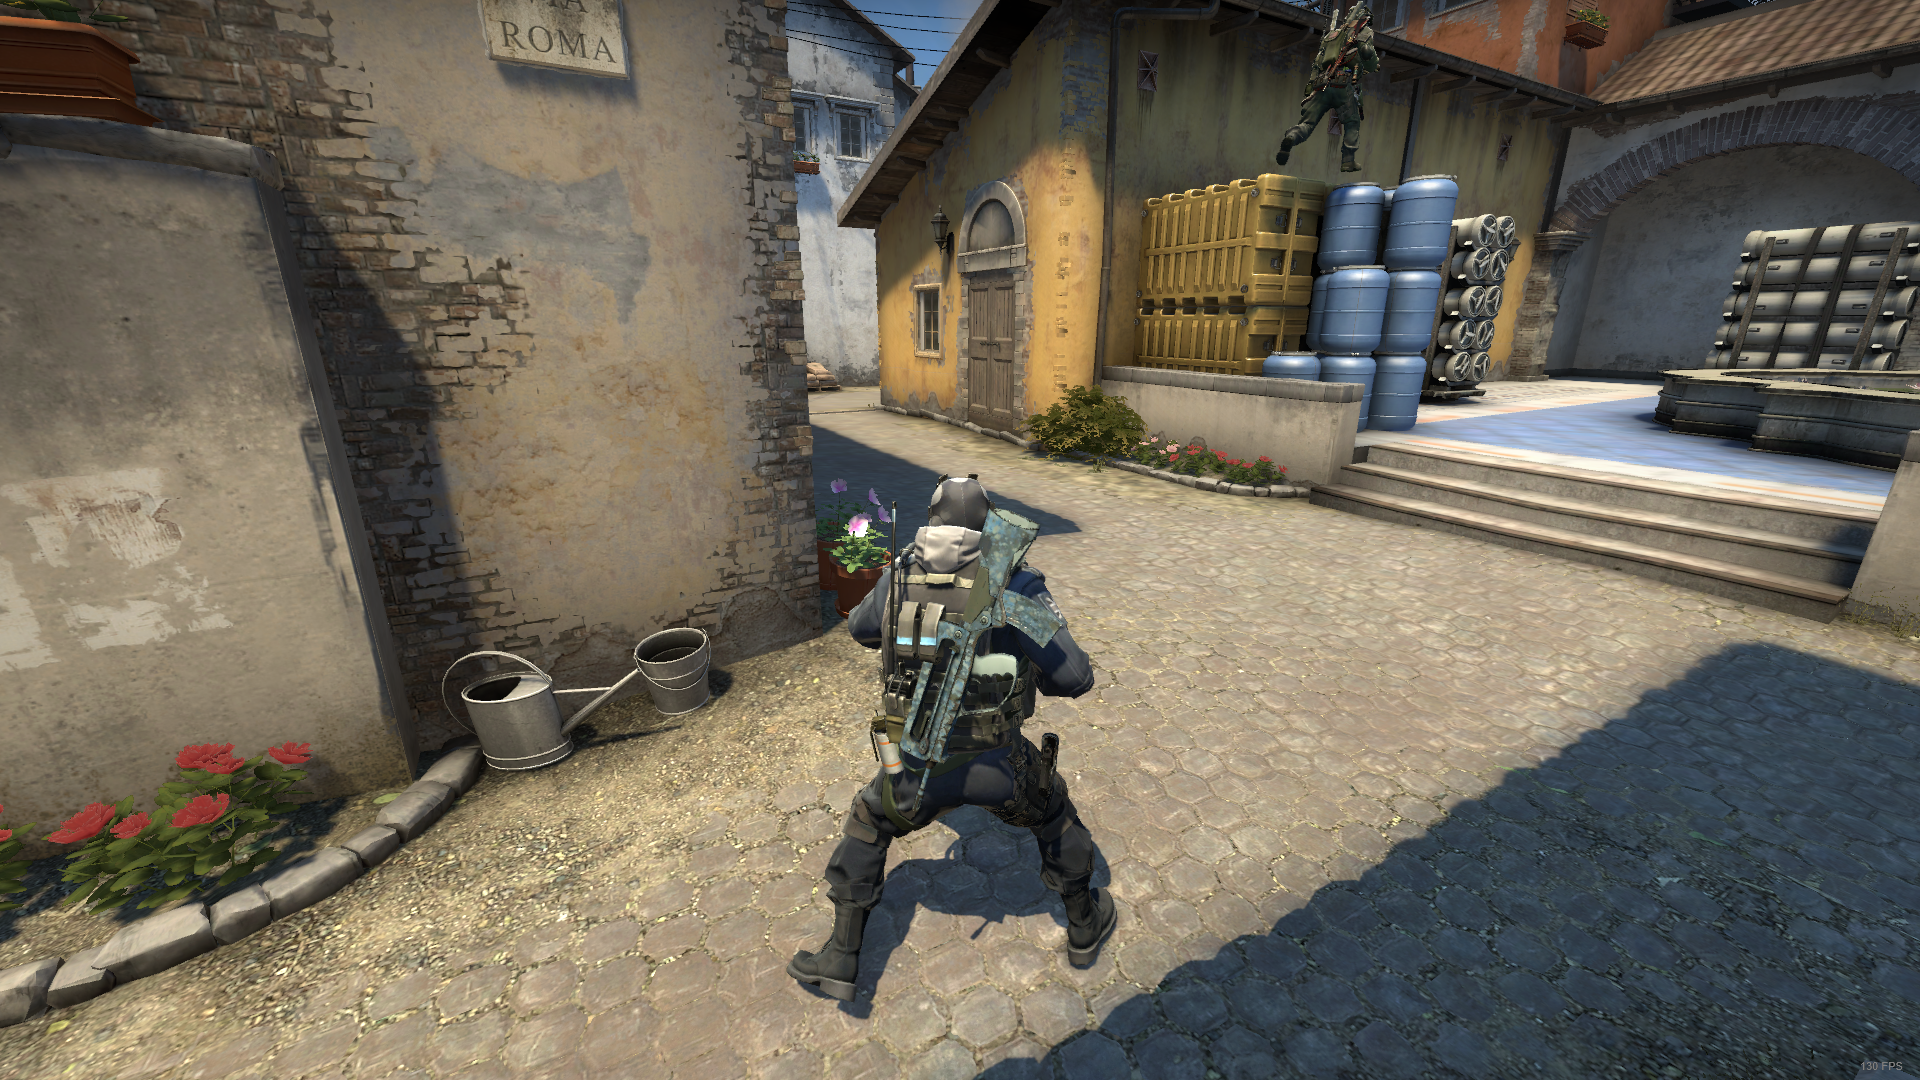ct: (771, 465, 1125, 1014)
